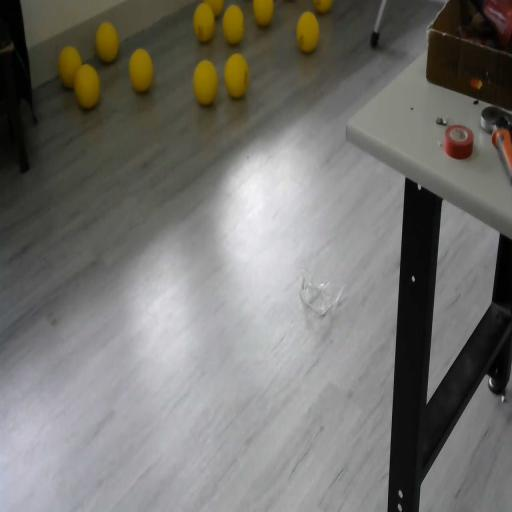FUEL: (192, 58, 219, 106), (128, 46, 154, 94), (57, 44, 83, 90), (224, 52, 249, 98), (295, 9, 320, 54), (192, 0, 216, 42), (222, 3, 245, 45), (96, 22, 119, 62), (252, 0, 274, 26), (313, 0, 333, 14)
